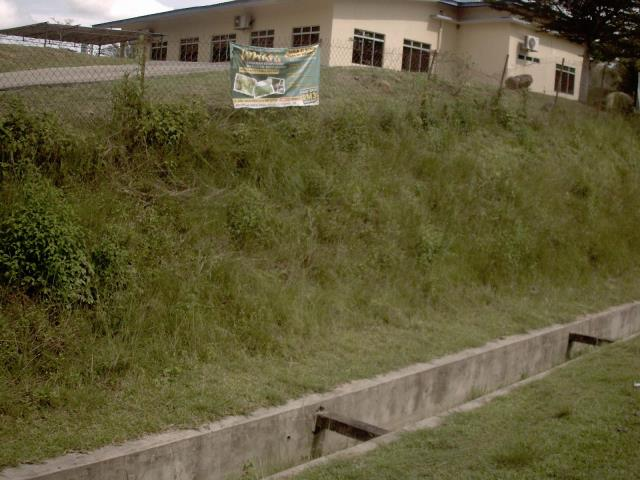ads_sign: (217, 34, 331, 118)
